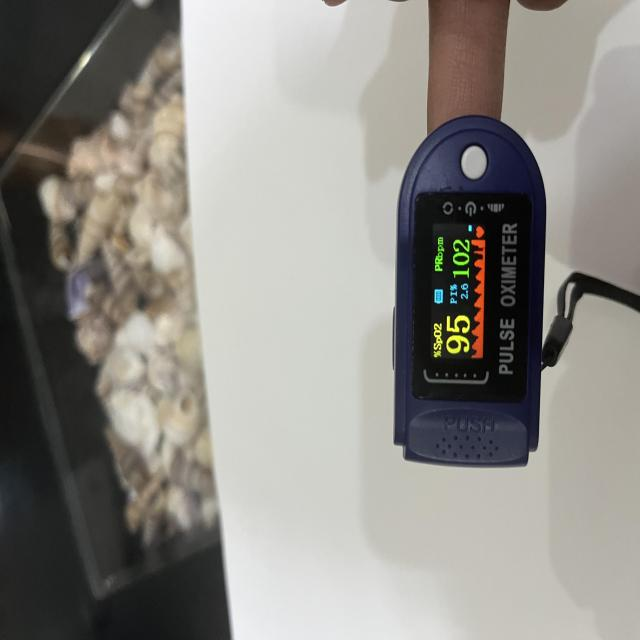spo2: (392, 114, 549, 471)
